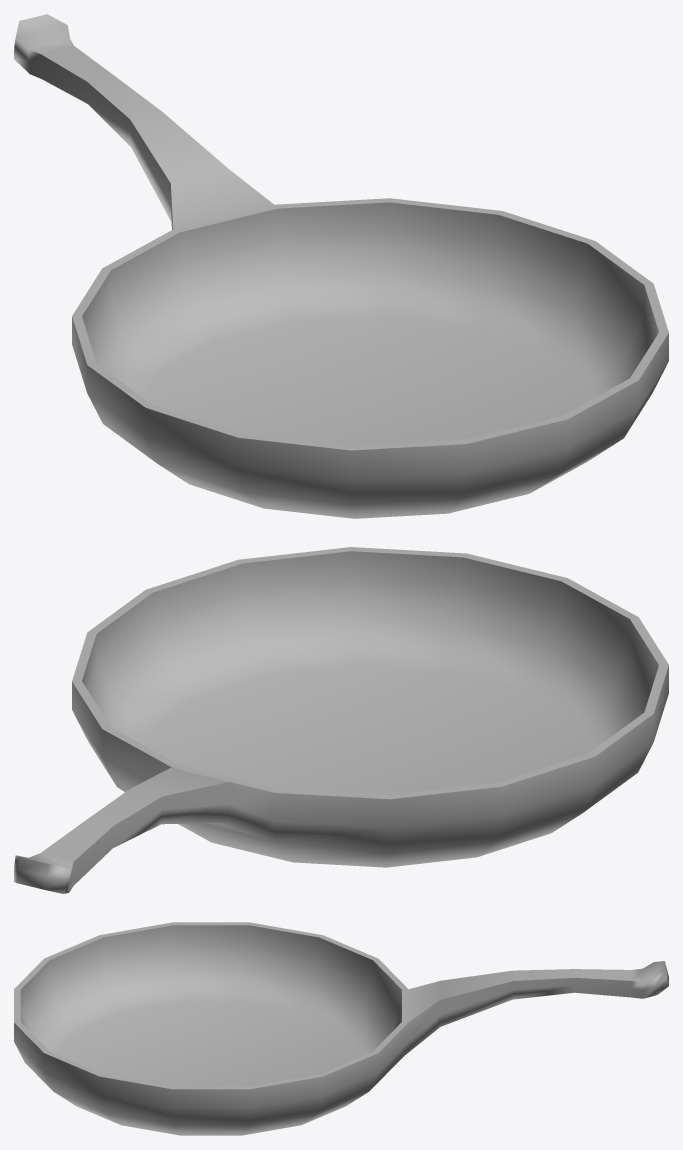
The model's file is pan.fbx.
3 views of the same model, one above another, from view 1: azimuth 30°, elevation 25°; view 2: azimuth 150°, elevation 25°; view 3: azimuth 270°, elevation 25° (orthographic). The views are drawn at different scales.
Visible parts, largest first — view 1: pan1; view 2: pan1; view 3: pan1.
Part boxes in pixels (x1,y1,x2,y2): pan1: [14, 14, 668, 518]; pan1: [14, 547, 668, 893]; pan1: [14, 922, 668, 1135].
Size of what is drawn, in the model's own units: 29.32 by 8.43 by 48.67.
Materials: 1 (1 with a texture image).
